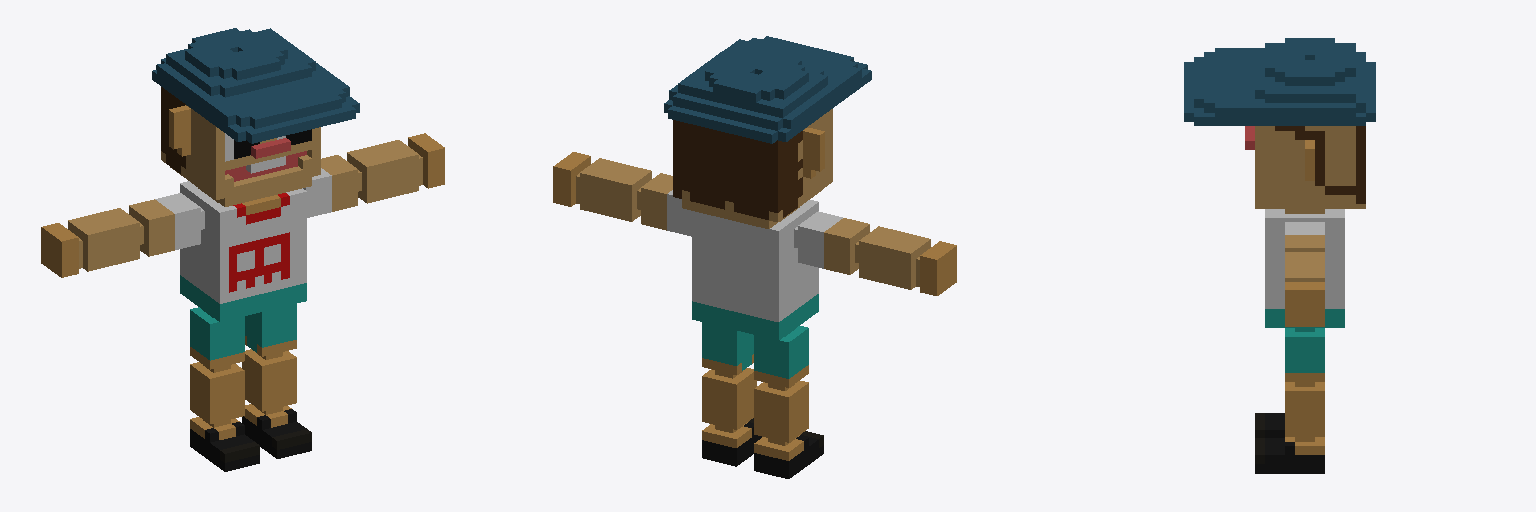
The picture shows the model from 3 angles: view 1: azimuth 30°, elevation 25°; view 2: azimuth 150°, elevation 25°; view 3: azimuth 270°, elevation 25°; orthographic projection.
Parts seen in each view (by area): view 1: friend; view 2: friend; view 3: friend.
Boxes of the visible parts, <box> form: friend: <box>41,28,444,471</box>; friend: <box>553,36,956,478</box>; friend: <box>1184,38,1375,473</box>.
Size of the model in its own units: 44 by 43 by 19.
1 materials, 1 textured.